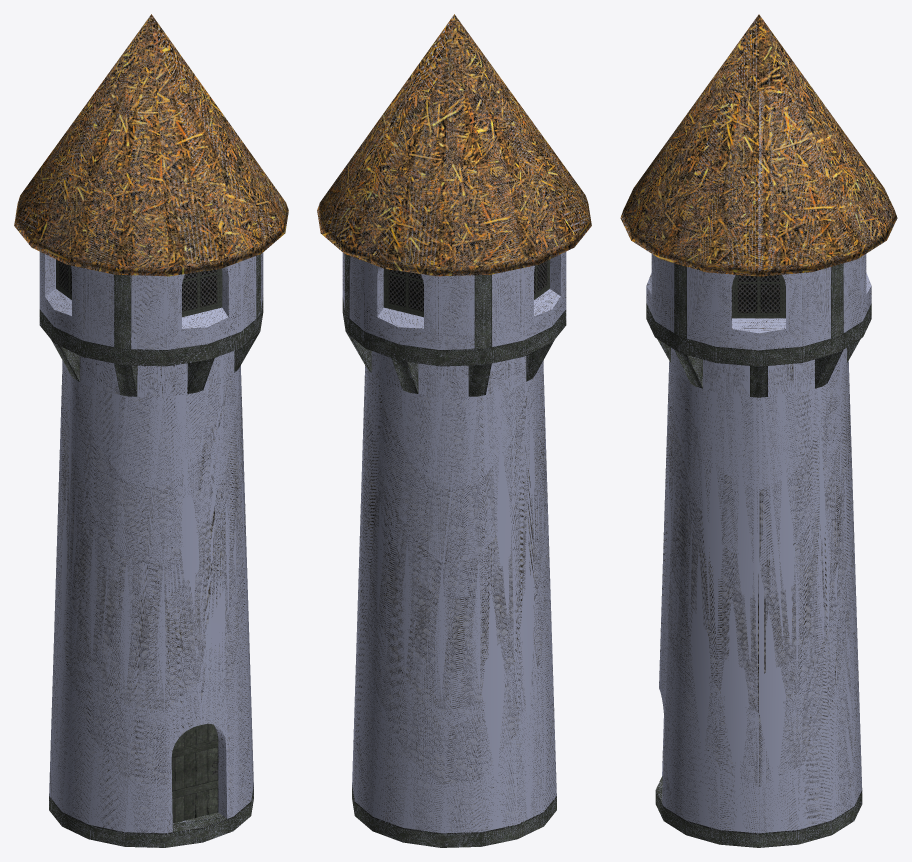
File: tower.dae
3 renders of one model, left to right at view 1: azimuth 30°, elevation 25°; view 2: azimuth 150°, elevation 25°; view 3: azimuth 270°, elevation 25°, orthographic.
Parts seen in each view (by area): view 1: Group1, Group2, Group7, Group6; view 2: Group1, Group2, Group3, Group4; view 3: Group1, Group2, Group8, Group10, Group9.
Boxes of the visible parts, left/top/right/bottom form: Group1: left=39, top=252, right=263, bottom=847; Group2: left=14, top=14, right=288, bottom=276; Group7: left=187, top=358, right=214, bottom=393; Group6: left=114, top=363, right=137, bottom=396; Group1: left=342, top=252, right=566, bottom=847; Group2: left=317, top=14, right=591, bottom=276; Group3: left=391, top=358, right=418, bottom=393; Group4: left=468, top=363, right=491, bottom=396; Group1: left=646, top=254, right=871, bottom=847; Group2: left=620, top=14, right=897, bottom=276; Group8: left=674, top=350, right=702, bottom=388; Group10: left=815, top=350, right=843, bottom=388; Group9: left=750, top=366, right=767, bottom=397.
Bounding box in the file's own units: 6.17 × 6.17 × 19.43.
